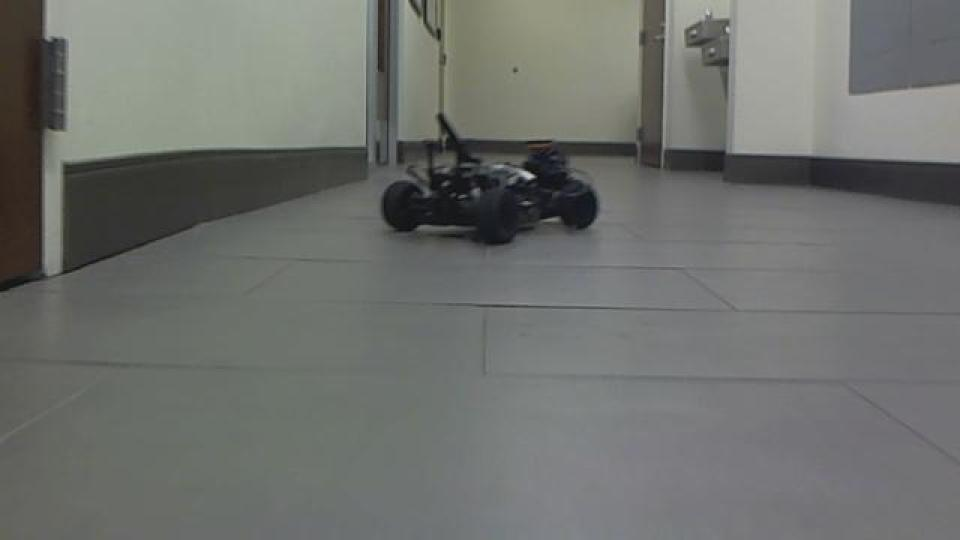car: (376, 111, 602, 247)
